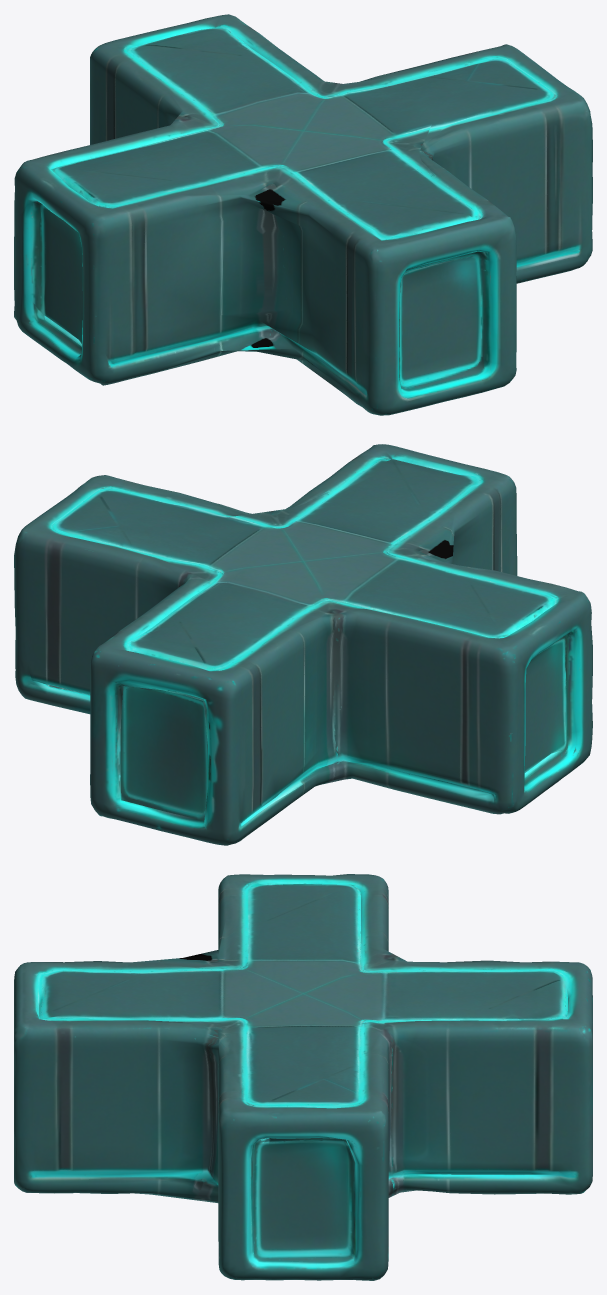
Rendered from Neon_Crossroads_0926182115_texture.fbx.
3 views of the same model, one above another, from view 1: azimuth 30°, elevation 25°; view 2: azimuth 150°, elevation 25°; view 3: azimuth 270°, elevation 25° (orthographic).
Parts seen in each view (by area): view 1: Mesh0; view 2: Mesh0; view 3: Mesh0.
Boxes of the visible parts, x1=… form: Mesh0: x1=14, y1=14, x2=592, y2=415; Mesh0: x1=14, y1=444, x2=592, y2=845; Mesh0: x1=14, y1=874, x2=592, y2=1280.
Bounding box in the file's own units: 191 × 61.39 × 191.
1 material, 1 textured.
